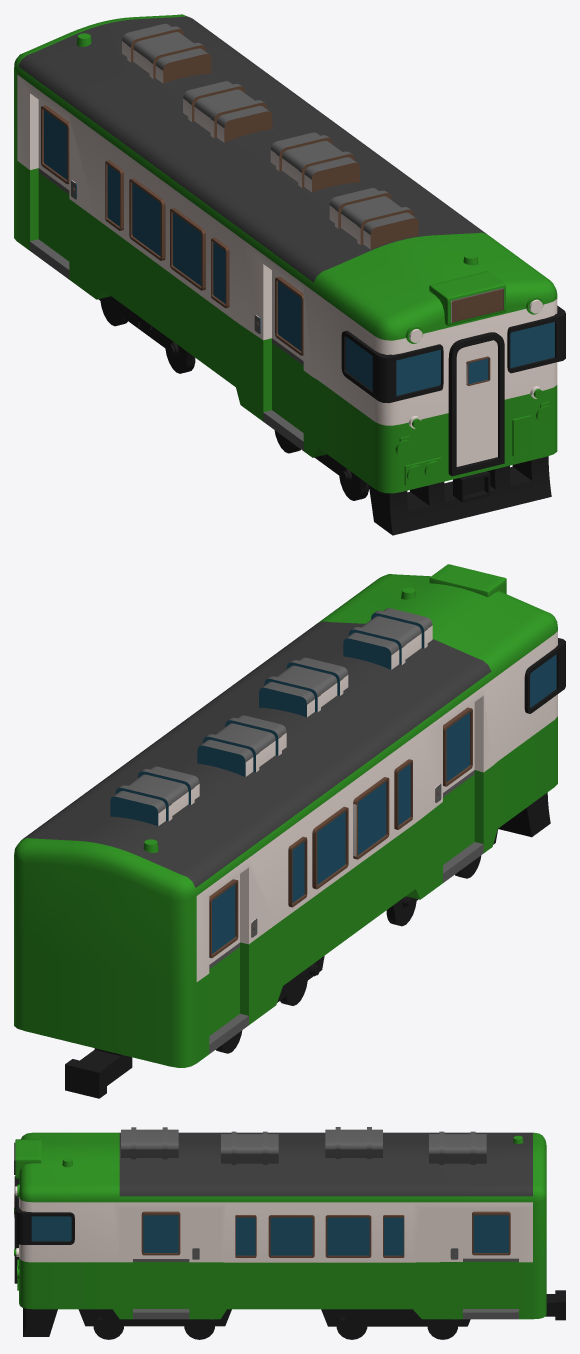
Rendered from head train 2.FBX.
3 views of the same model, one above another, from view 1: azimuth 30°, elevation 25°; view 2: azimuth 150°, elevation 25°; view 3: azimuth 270°, elevation 25° (orthographic). The views are drawn at different scales.
Visible parts, largest first — view 1: Object002; view 2: Object002; view 3: Object002.
Part boxes in pixels (bbox=[...]): Object002: bbox=[14, 14, 565, 535]; Object002: bbox=[14, 564, 565, 1098]; Object002: bbox=[14, 1127, 565, 1339].
Bounding box in the file's own units: 41.11 × 54.76 × 151.
